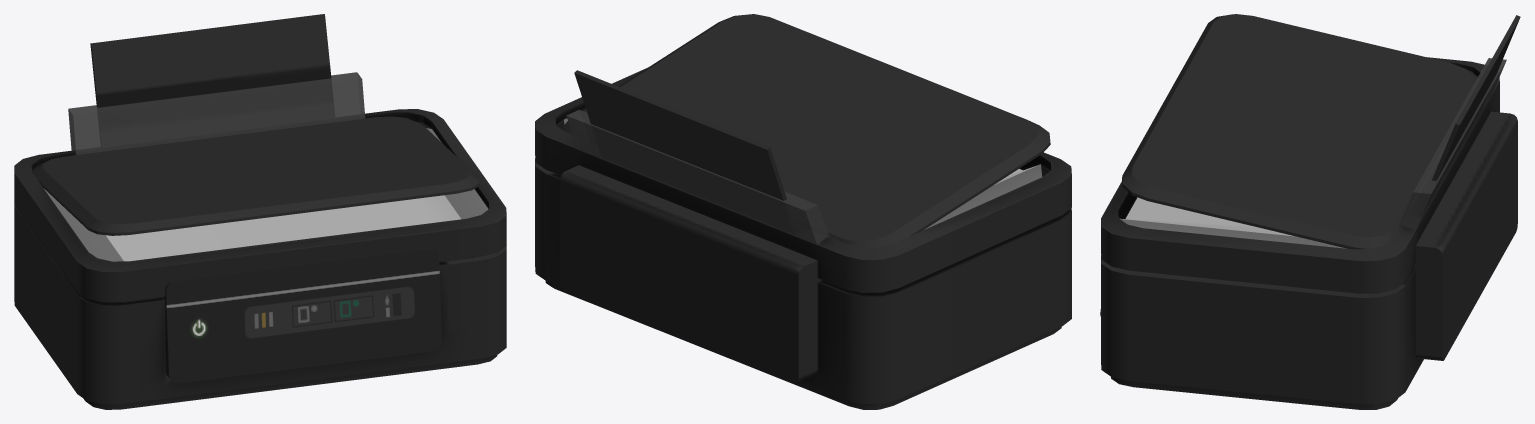
Rendered from Printer.fbx.
3 views of the same model, side by side, from view 1: azimuth 30°, elevation 25°; view 2: azimuth 150°, elevation 25°; view 3: azimuth 270°, elevation 25° (orthographic). The views are drawn at different scales.
Visible parts, largest first — view 1: Printer; view 2: Printer; view 3: Printer.
Part boxes in pixels (left/top/right/bottom): Printer: left=14, top=14, right=506, bottom=409; Printer: left=535, top=14, right=1071, bottom=409; Printer: left=1100, top=14, right=1520, bottom=409.
Size of the model in its own units: 6.97 by 3.68 by 5.56.
Materials: 4 (1 with a texture image).
